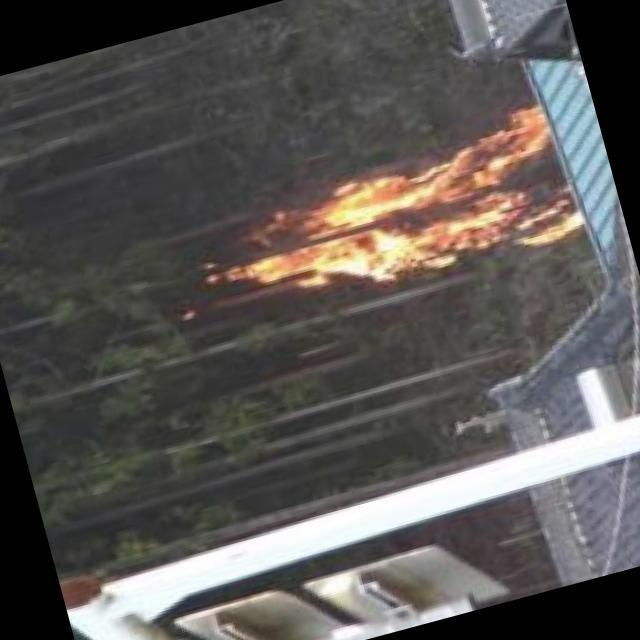Fire: (190, 111, 599, 345)
